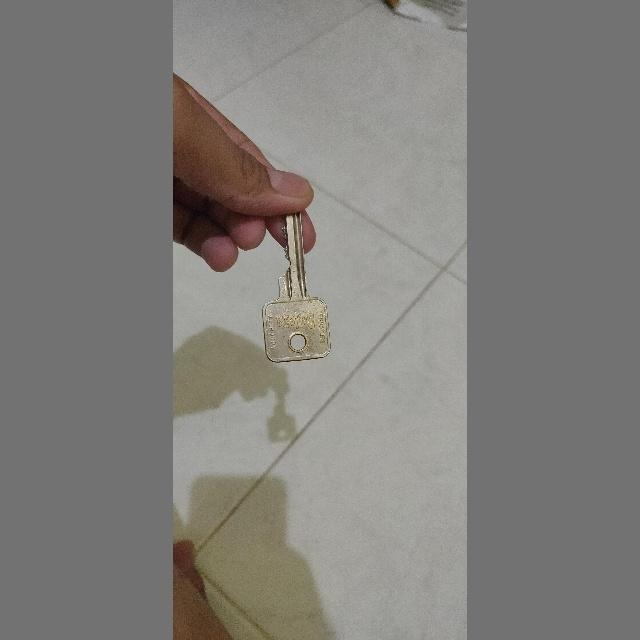Keys: (256, 190, 340, 374)
